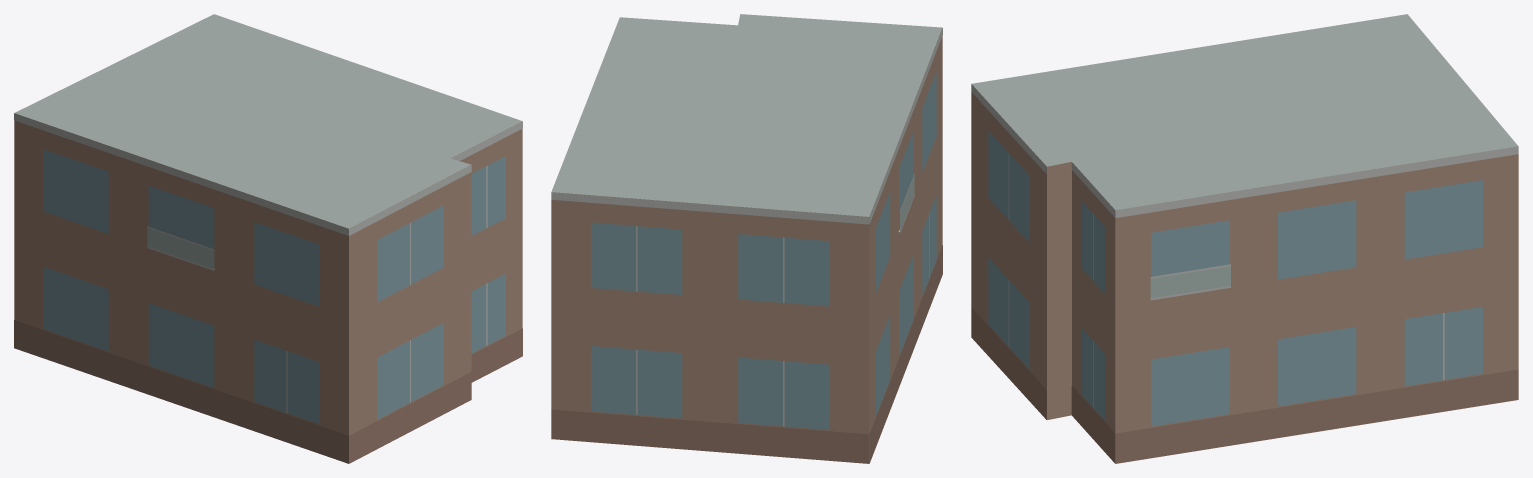
The model's file is survey-upis-32846615.glb.
3 views of the same model, side by side, from view 1: azimuth 30°, elevation 25°; view 2: azimuth 150°, elevation 25°; view 3: azimuth 270°, elevation 25° (orthographic). The views are drawn at different scales.
Visible parts, largest first — view 1: survey-upis-32846615.tmp; view 2: survey-upis-32846615.tmp; view 3: survey-upis-32846615.tmp.
Boxes of the visible parts, x1,y1,x2,y2 form: survey-upis-32846615.tmp: (14, 14, 522, 463); survey-upis-32846615.tmp: (551, 14, 942, 463); survey-upis-32846615.tmp: (971, 14, 1518, 463).
Bounding box in the file's own units: 13.13 × 7.9 × 15.47.
